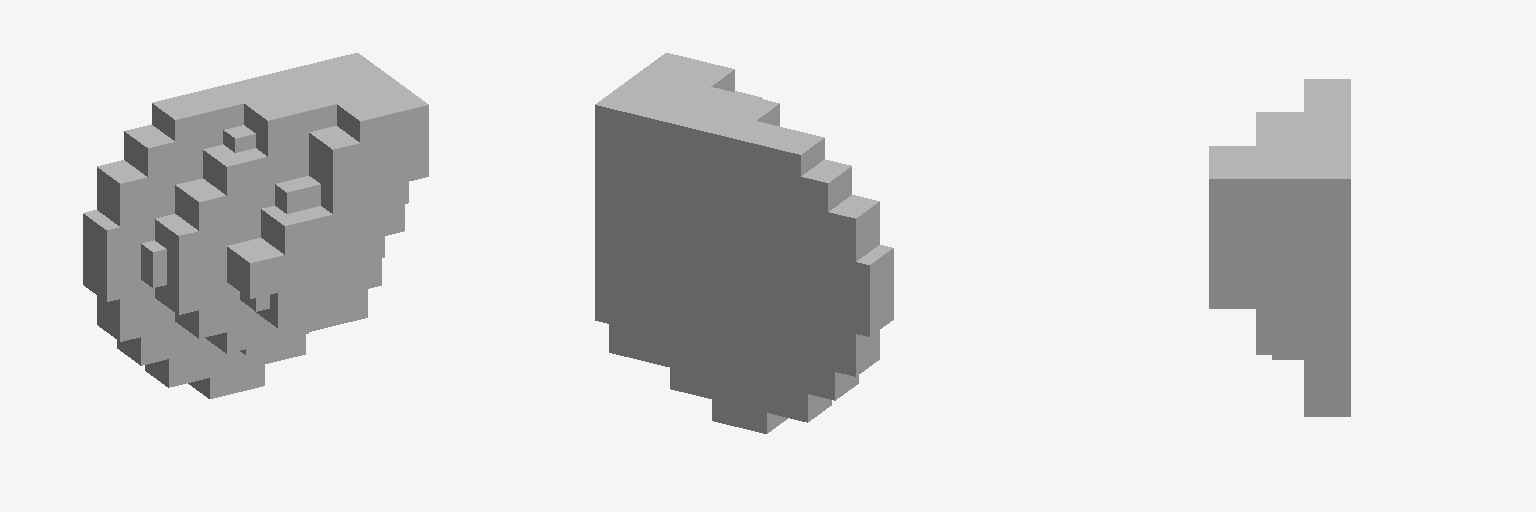
The model's file is corner 1x1 - 2.obj.
3 views of the same model, side by side, from view 1: azimuth 30°, elevation 25°; view 2: azimuth 150°, elevation 25°; view 3: azimuth 270°, elevation 25° (orthographic).
Bounding box in the file's own units: 40 × 40 × 18.